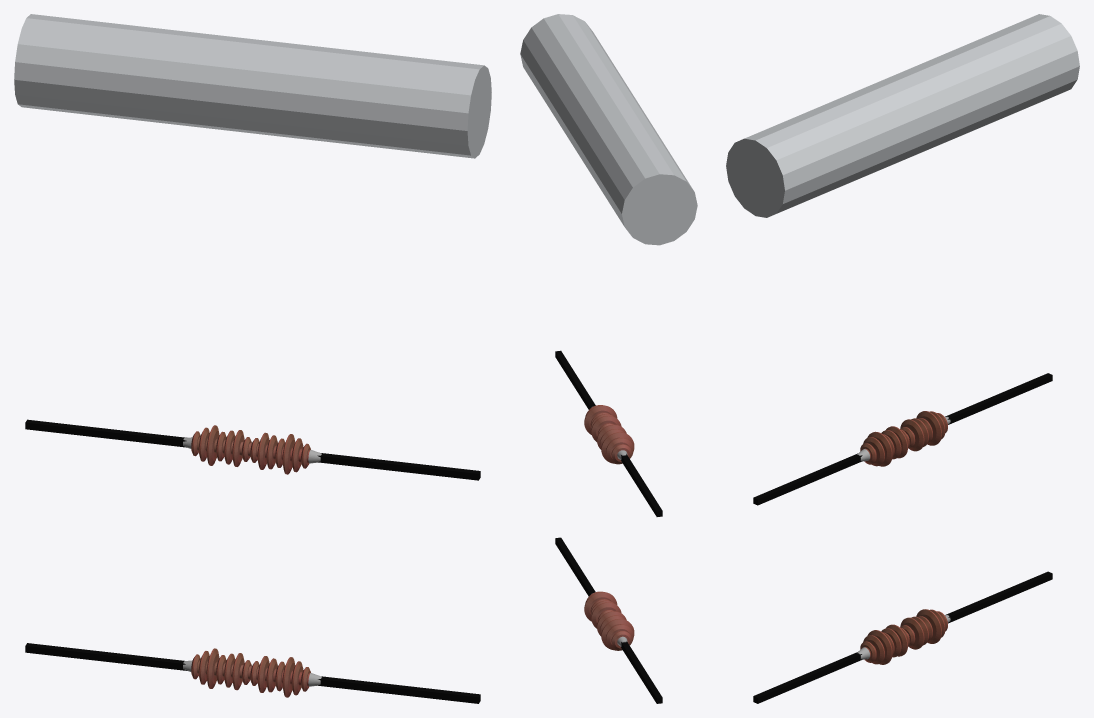
The model's file is 45d_moretop_2.obj.
3 views of the same model, side by side, from view 1: azimuth 30°, elevation 25°; view 2: azimuth 150°, elevation 25°; view 3: azimuth 270°, elevation 25° (orthographic). The views are drawn at different scales.
Visible parts, largest first — view 1: moretop_1.002, chain, moretop_1.001, chain.001; view 2: moretop_1.002, chain, moretop_1.001; view 3: moretop_1.002, chain, moretop_1.001.
Part boxes in pixels (left/top/right/bottom): moretop_1.002: left=14, top=14, right=491, bottom=158; chain: left=191, top=425, right=310, bottom=697; moretop_1.001: left=25, top=419, right=480, bottom=703; chain.001: left=183, top=437, right=321, bottom=686; moretop_1.002: left=520, top=14, right=697, bottom=245; chain: left=584, top=405, right=634, bottom=650; moretop_1.001: left=555, top=350, right=662, bottom=703; moretop_1.002: left=726, top=14, right=1079, bottom=217; chain: left=860, top=411, right=947, bottom=664; moretop_1.001: left=753, top=373, right=1052, bottom=703.
Size of the model in its own units: 1.7 by 3.05 by 1.7.
4 materials, 4 textured.
